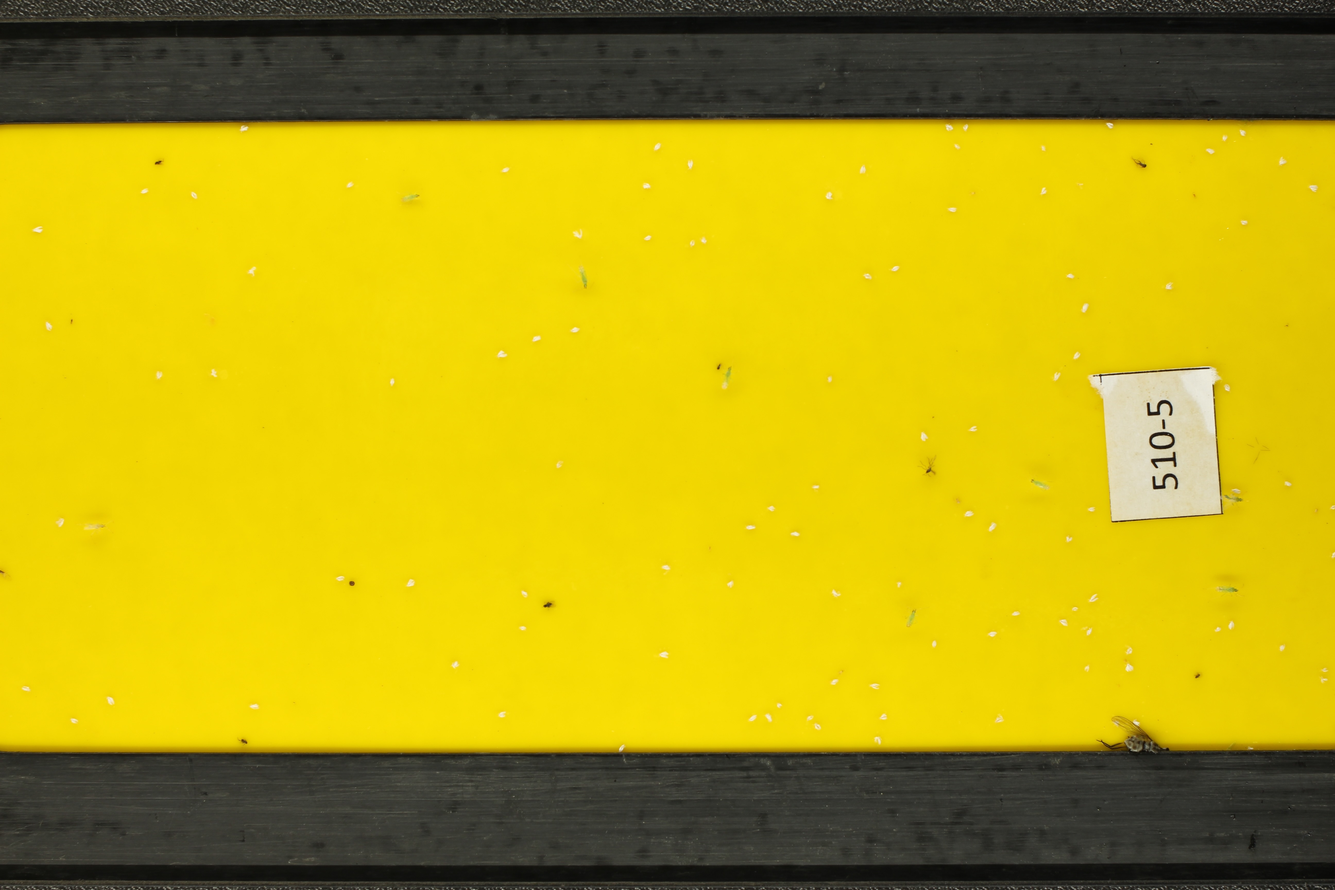MR: (1209, 577, 1248, 603), (1019, 472, 1057, 496), (570, 262, 595, 293), (721, 362, 739, 393), (400, 186, 423, 210), (900, 607, 925, 629), (83, 520, 110, 536), (1222, 495, 1249, 508)
WF: (636, 230, 660, 244), (244, 261, 261, 280), (1077, 302, 1098, 317), (566, 226, 588, 240), (39, 320, 57, 336), (149, 366, 167, 382), (658, 561, 678, 575), (1033, 142, 1054, 155), (52, 516, 70, 531), (31, 222, 47, 238), (824, 371, 838, 389), (944, 203, 962, 217), (656, 648, 674, 662), (1048, 369, 1065, 383), (528, 331, 544, 345), (821, 189, 837, 203), (1306, 181, 1322, 195), (103, 694, 120, 707), (868, 732, 886, 744), (208, 366, 222, 381), (862, 270, 876, 285), (248, 699, 263, 713), (495, 708, 511, 721), (1035, 186, 1052, 198), (1069, 351, 1089, 361), (786, 529, 804, 540), (551, 459, 569, 470), (1084, 593, 1102, 604), (344, 178, 358, 192), (1276, 641, 1290, 655), (494, 347, 509, 360), (855, 164, 871, 176), (66, 715, 83, 726), (1238, 216, 1252, 229), (405, 577, 419, 590), (868, 681, 883, 693), (1079, 662, 1094, 674), (386, 376, 399, 389), (450, 658, 463, 671), (1064, 532, 1077, 545), (500, 165, 514, 177), (684, 238, 698, 250), (890, 264, 904, 276), (828, 677, 842, 689), (962, 508, 976, 520), (237, 125, 252, 136), (1161, 281, 1176, 292), (828, 587, 843, 598), (965, 423, 981, 433), (1064, 271, 1080, 281), (764, 504, 780, 514), (1082, 627, 1098, 637), (138, 187, 151, 199), (641, 178, 653, 191), (685, 157, 697, 170), (919, 432, 932, 444), (1223, 382, 1235, 395), (189, 190, 200, 204), (519, 588, 533, 599), (878, 708, 889, 722), (614, 741, 631, 750), (724, 579, 739, 589), (940, 125, 958, 133), (1218, 134, 1234, 143), (19, 685, 35, 694), (1123, 662, 1136, 673), (1319, 677, 1332, 688), (569, 326, 583, 336), (1277, 156, 1291, 166), (762, 713, 776, 723), (515, 624, 530, 633), (744, 713, 759, 722), (992, 715, 1007, 724), (986, 522, 998, 533), (1058, 617, 1070, 628), (1226, 620, 1237, 632), (1283, 478, 1295, 489), (772, 700, 785, 710), (812, 723, 825, 733), (986, 629, 999, 639), (1230, 484, 1243, 494), (1204, 147, 1218, 156), (335, 574, 346, 585), (699, 235, 711, 245), (928, 640, 941, 649), (1319, 666, 1332, 675), (802, 713, 816, 721), (807, 484, 823, 491), (653, 142, 664, 152), (896, 579, 906, 590), (1011, 609, 1022, 619), (1125, 645, 1136, 655), (1070, 604, 1081, 614), (1212, 625, 1222, 636), (1132, 717, 1142, 728), (1086, 506, 1098, 515), (745, 524, 758, 532), (1102, 124, 1119, 130), (1237, 129, 1248, 138), (951, 141, 961, 150), (961, 124, 971, 132), (1327, 502, 1335, 512), (1330, 551, 1335, 559)
